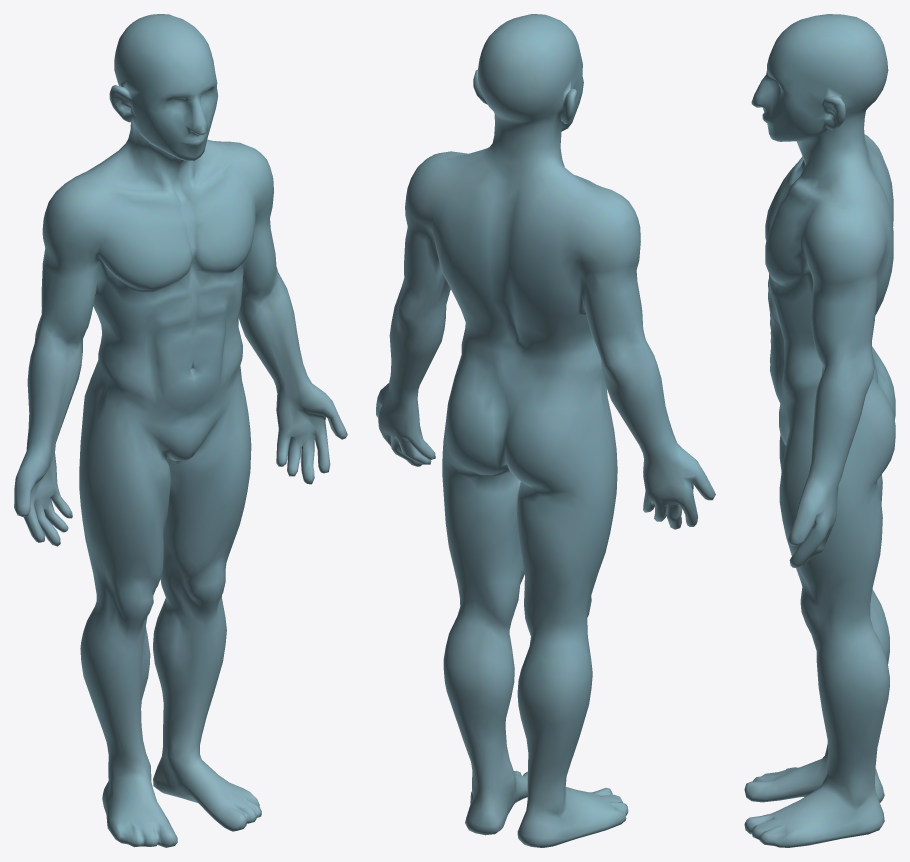
File: sunken_f2bf8683_v2.glb
3 views of the same model, side by side, from view 1: azimuth 30°, elevation 25°; view 2: azimuth 150°, elevation 25°; view 3: azimuth 270°, elevation 25° (orthographic).
Parts seen in each view (by area): view 1: material; view 2: material; view 3: material.
Part boxes in pixels (x1,y1,x2,y2): material: (14, 14, 347, 847); material: (376, 14, 715, 847); material: (744, 14, 895, 847).
Size of the model in its own units: 0.8319 by 1.9 by 0.3261.
Materials: 1 (1 with a texture image).
